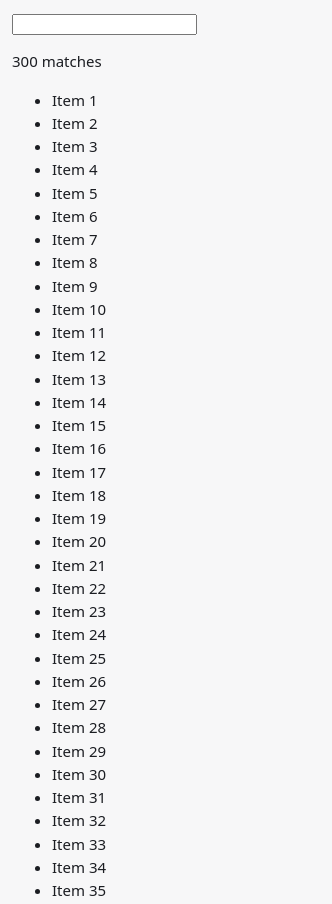
useTransition list filter › updates the input immediately and the list once the transition commits
The width and height of the screenshot is (332, 904).
Expected: the message reads "300 matches", [12,51,102,71]
Type "item 29" into the search field named "Filter items" at [104, 24], box [12,14,197,35]
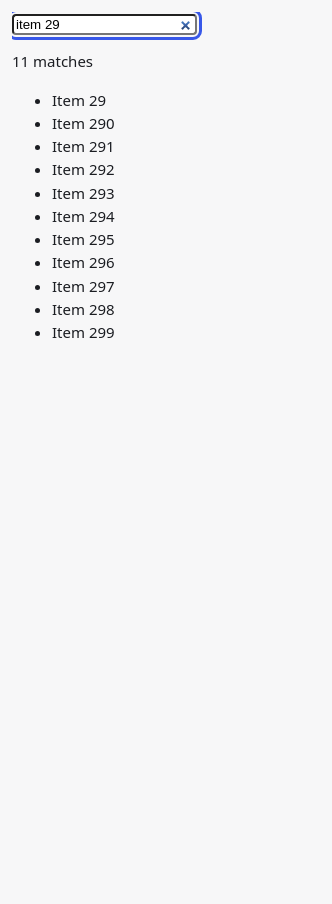
Expected: the text "11 matches" is shown, [12,51,93,71]
Expected: the number of list items is 11
